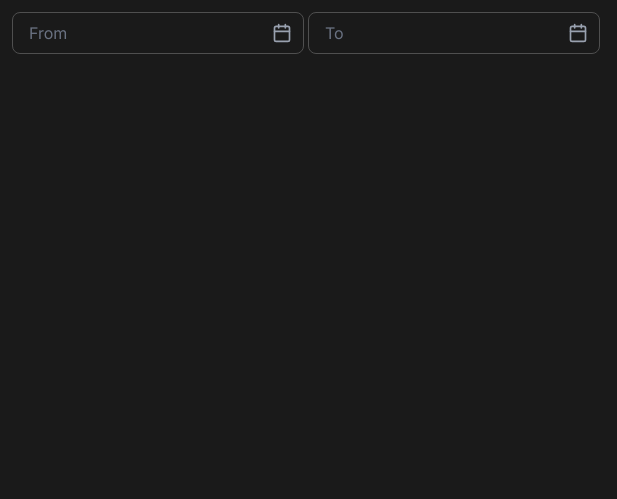
DateRangePicker Component › Calendar Interaction › should open from calendar independently
Click the field with placeholder "From".
click(158, 33)  # box x1=12 y1=12 x2=304 y2=54
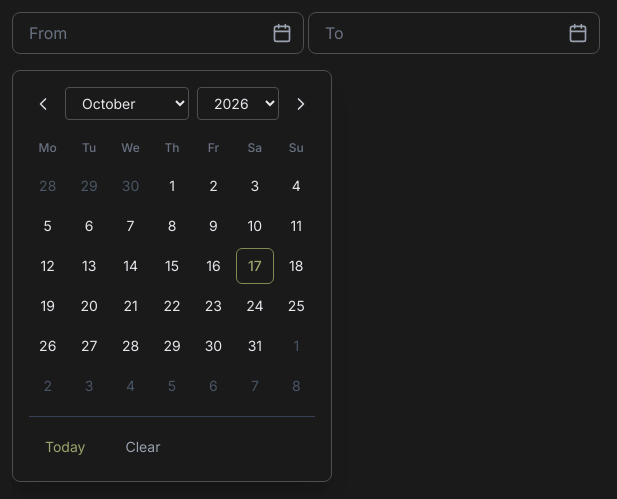
Expected: the text "Mo" is shown, x1=39 y1=140 x2=57 y2=155
